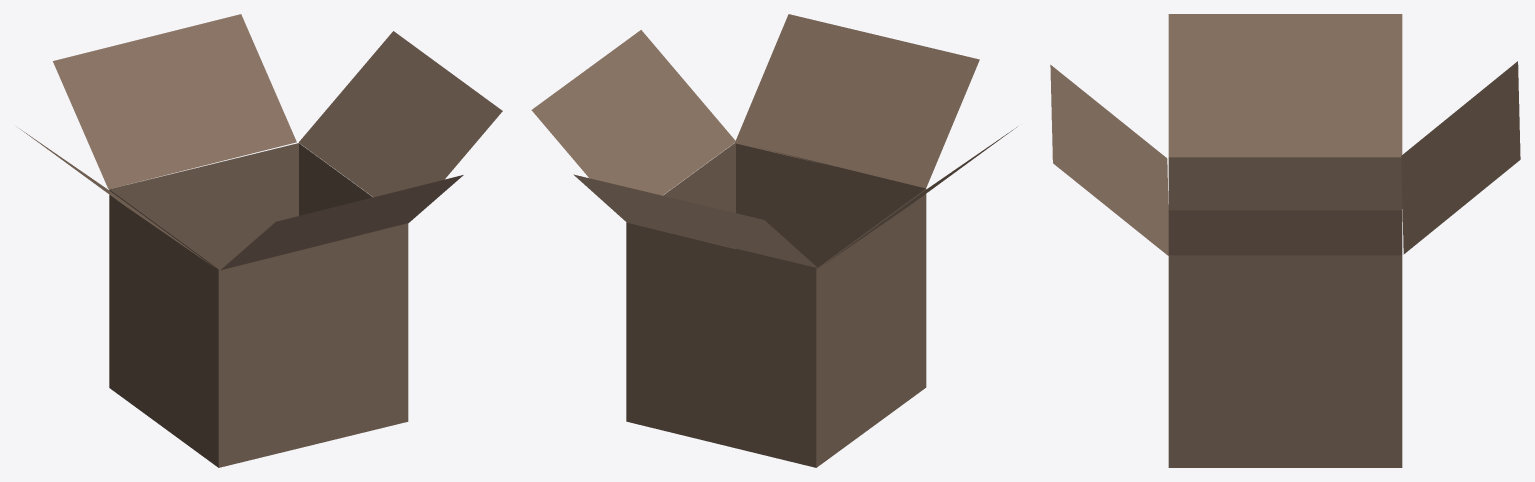
3 renders of one model, left to right at view 1: azimuth 30°, elevation 25°; view 2: azimuth 150°, elevation 25°; view 3: azimuth 270°, elevation 25°, orthographic. The views are drawn at different scales.
Visible parts, largest first — view 1: pCube1, pCube2; view 2: pCube1, pCube2; view 3: pCube1, pCube2.
Part boxes in pixels (<box>): pCube1: <box>53,14,463,467</box>; pCube2: <box>17,31,502,267</box>; pCube1: <box>573,14,979,467</box>; pCube2: <box>531,30,1017,267</box>; pCube1: <box>1050,61,1520,467</box>; pCube2: <box>1168,14,1402,255</box>.
Size of the model in its own units: 2 by 1.45 by 2.01.
